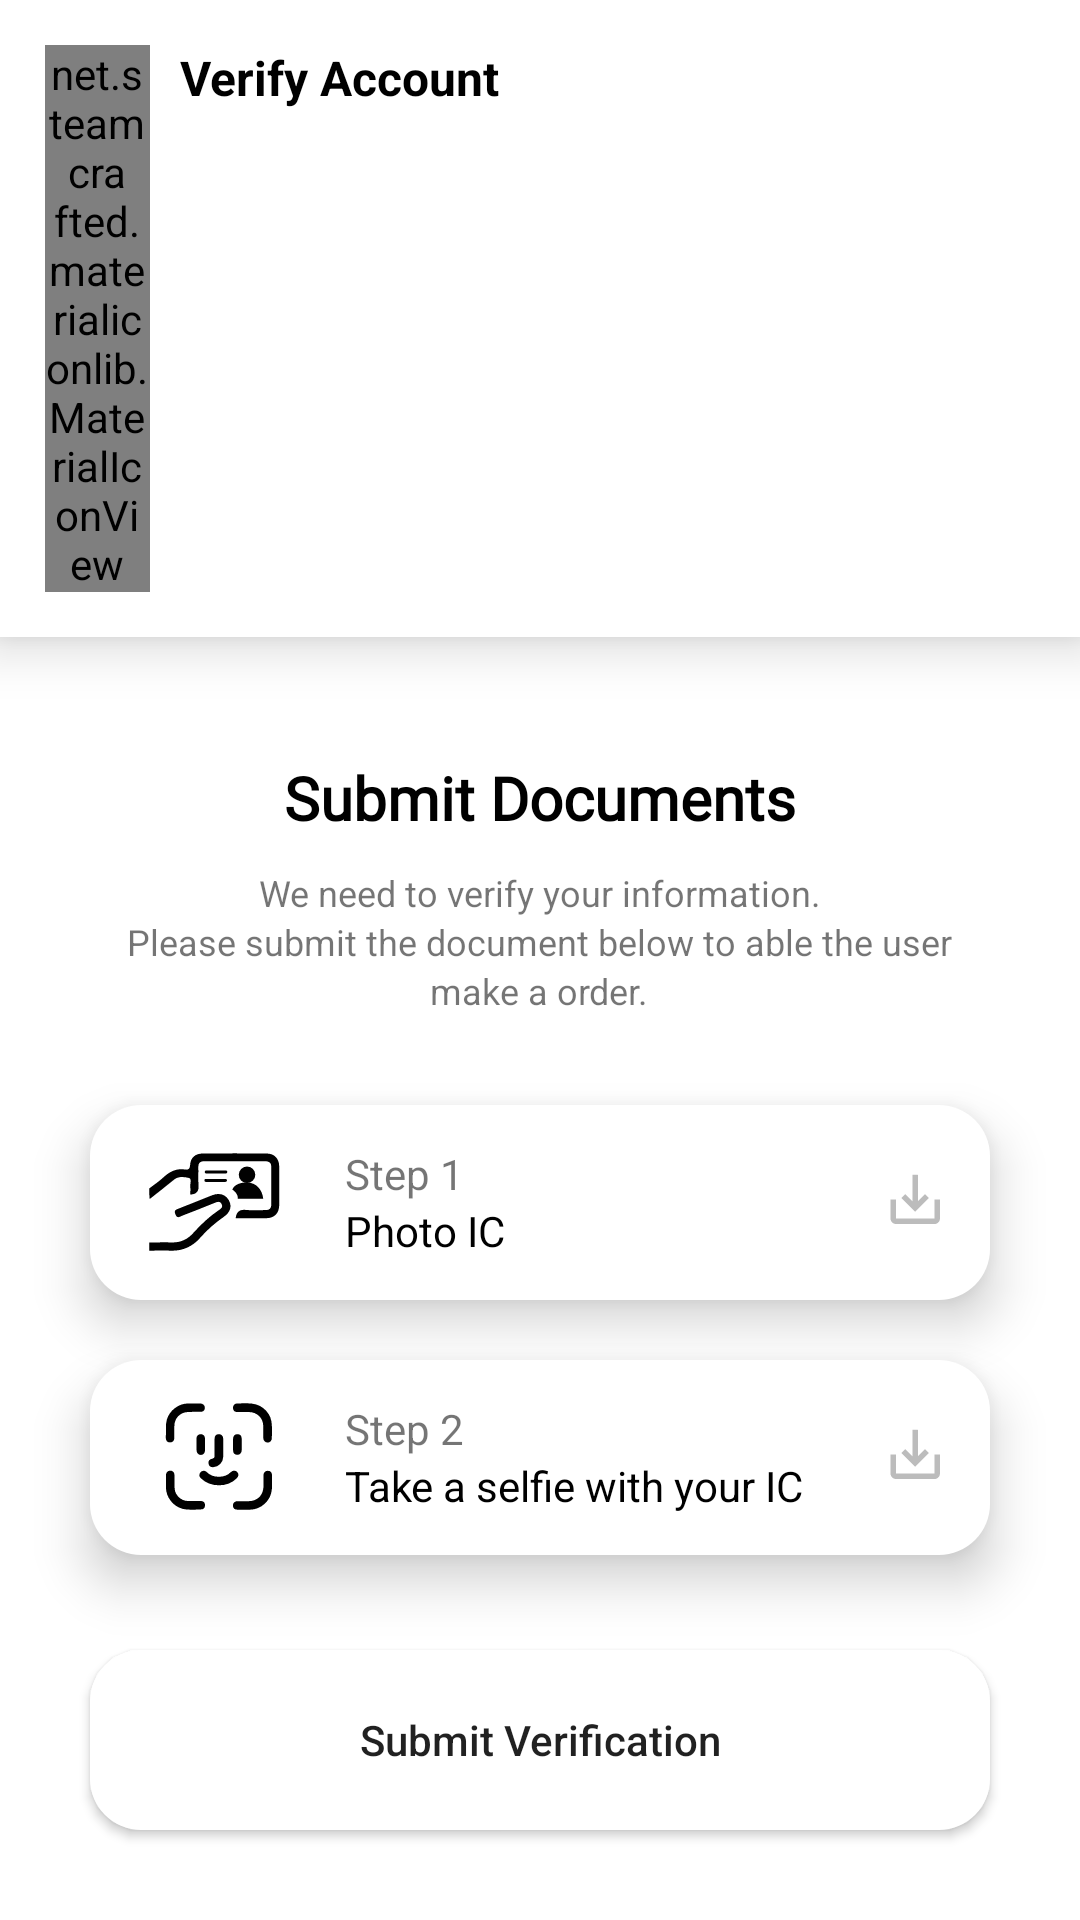

Icon bounding boxes for this 1080 x 1920 phone screenshot, format (x1, y1, x2, y2):
faceid: (165, 1403, 272, 1510)
idverify: (149, 1153, 280, 1251)
